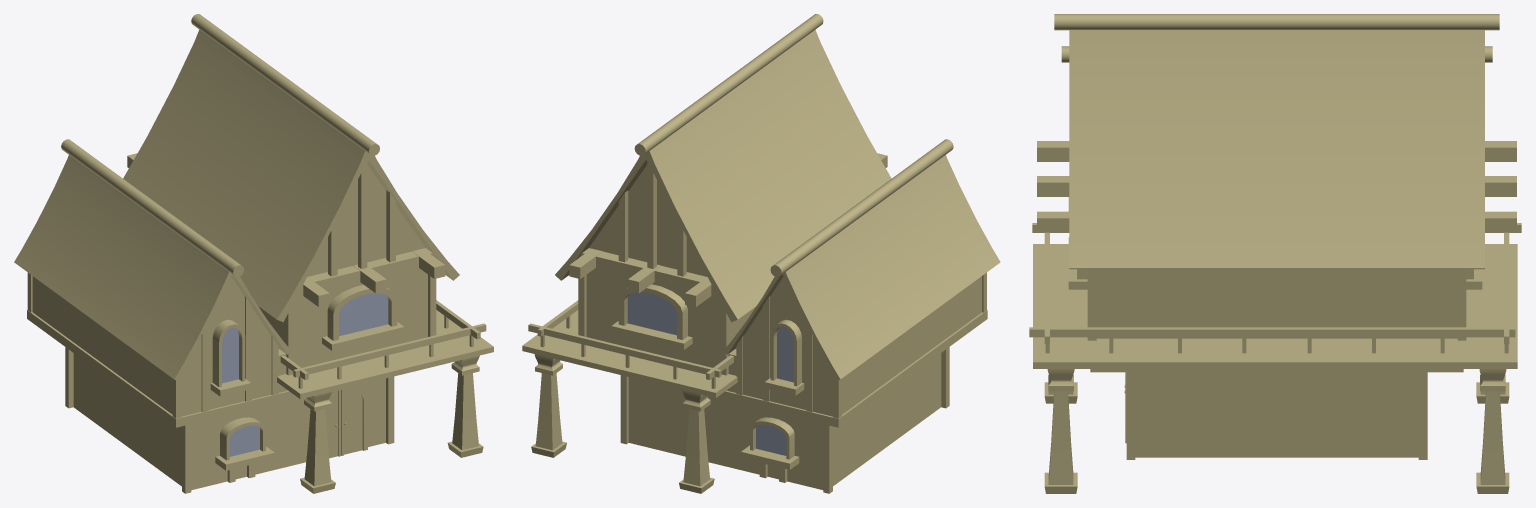
The model's file is TabernaConNuevoUV.fbx.
3 renders of one model, left to right at view 1: azimuth 30°, elevation 25°; view 2: azimuth 150°, elevation 25°; view 3: azimuth 270°, elevation 25°, orthographic. The views are drawn at different scales.
Visible parts, largest first — view 1: polySurface419, polySurface416; view 2: polySurface419, polySurface416; view 3: polySurface419.
Boxes of the visible parts, x1,y1,x2,y2 form: polySurface419: (14, 14, 493, 493); polySurface416: (222, 293, 388, 456); polySurface419: (522, 14, 1000, 493); polySurface416: (627, 292, 793, 455); polySurface419: (1029, 14, 1521, 493).
Bounding box in the file's own units: 12.11 × 12.69 × 13.63.
